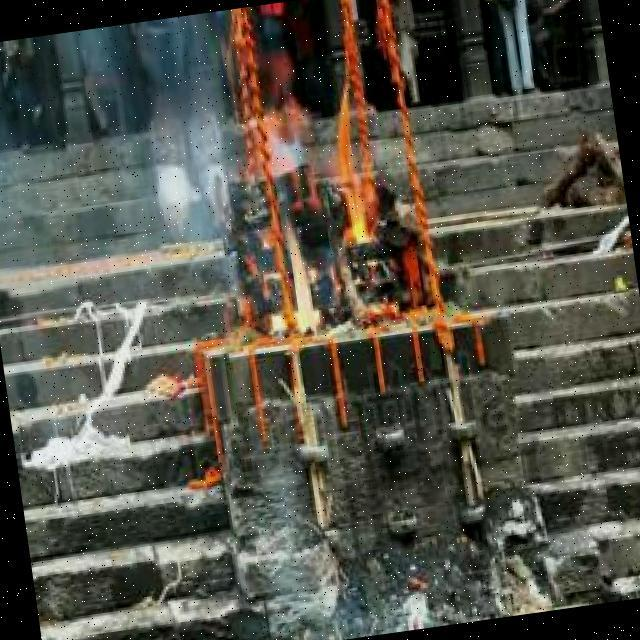Fire: (246, 94, 400, 347)
